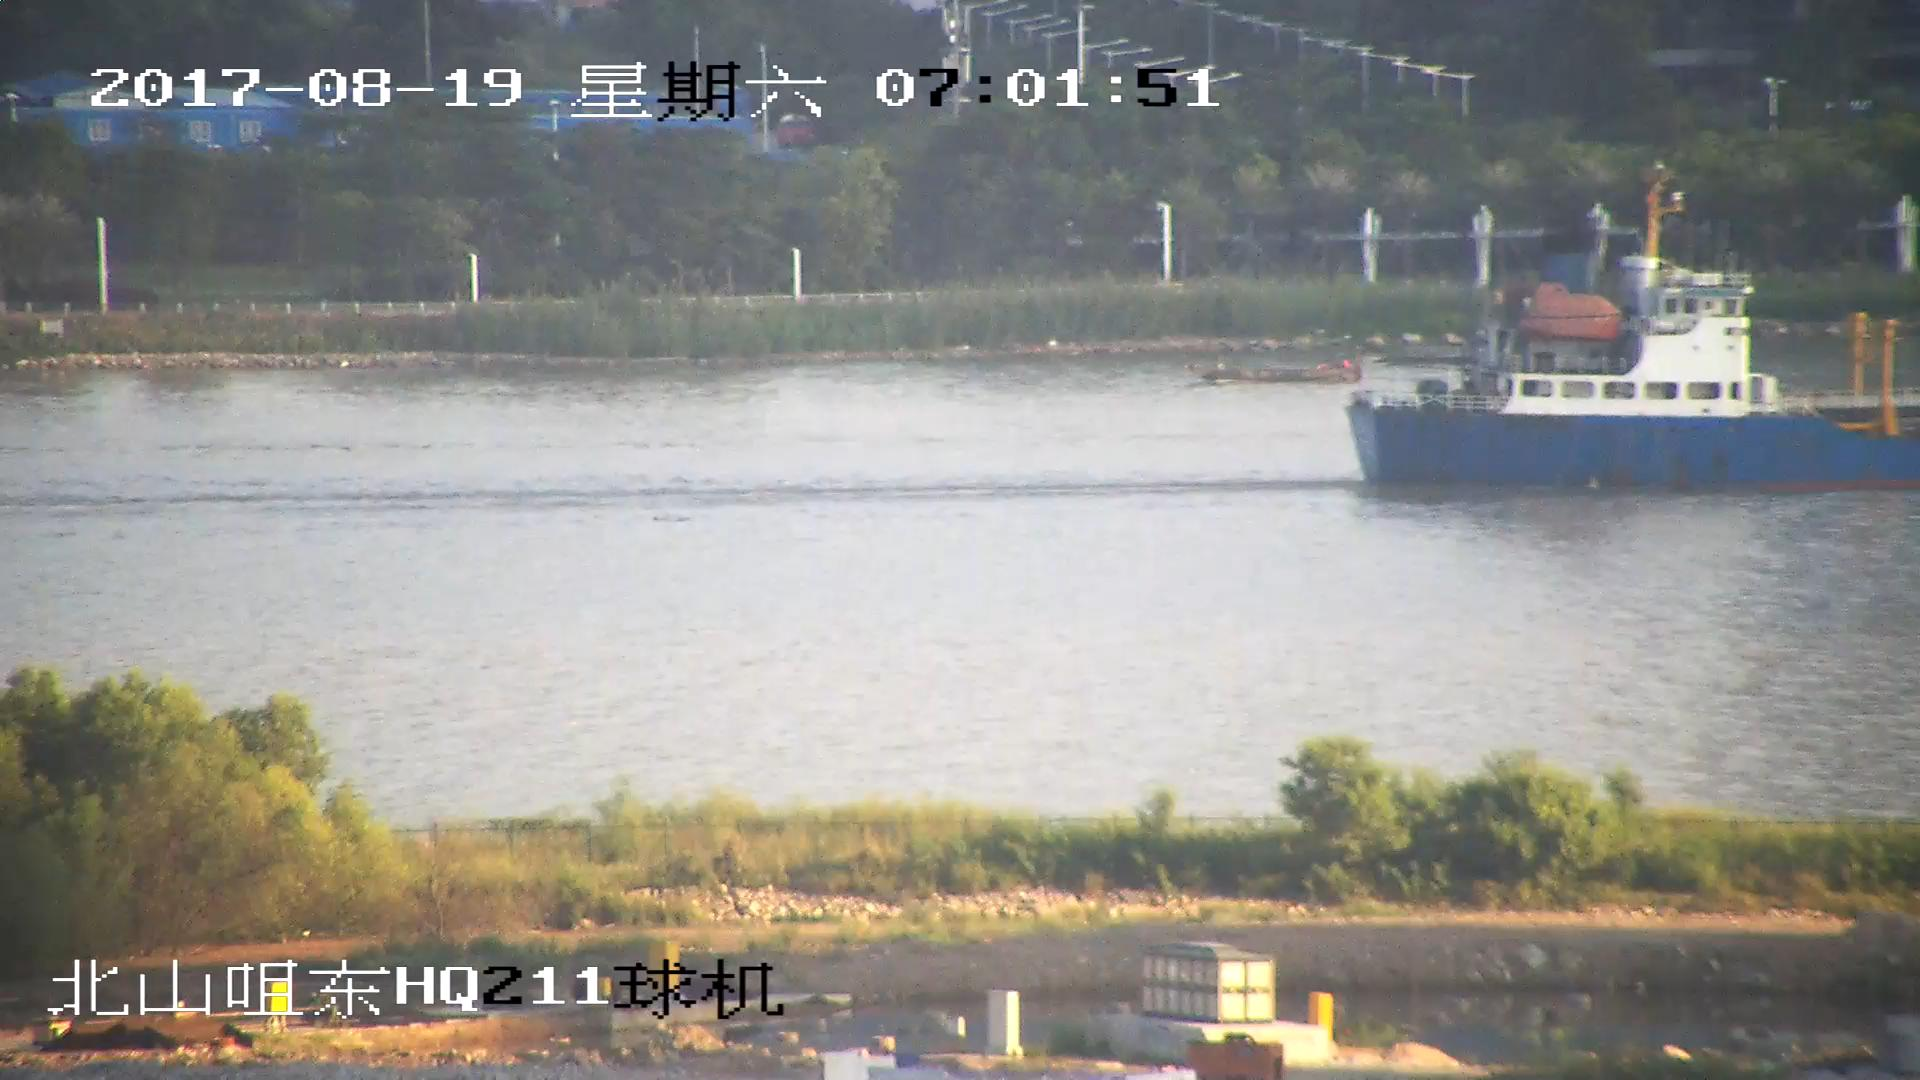fishing boat: (1209, 356, 1363, 384)
general cargo ship: (1355, 218, 1920, 486)
